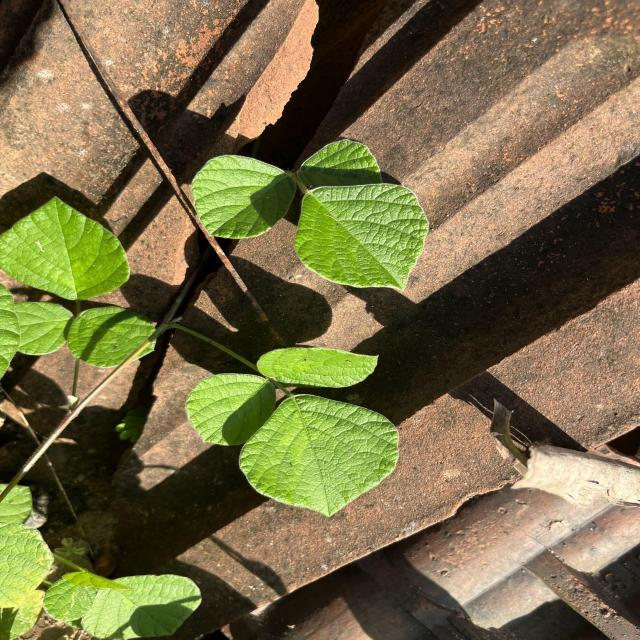Pseudarthria viscida: (184, 346, 402, 520), (190, 136, 430, 292), (0, 194, 162, 368)
